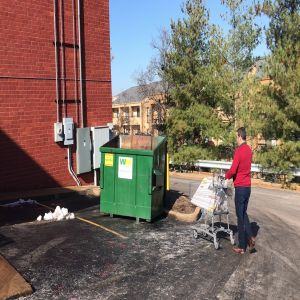Dumpster: (97, 132, 171, 228)
Person: (222, 127, 267, 261)
